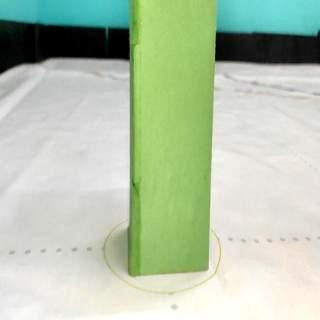greenbox: (127, 2, 215, 276)
